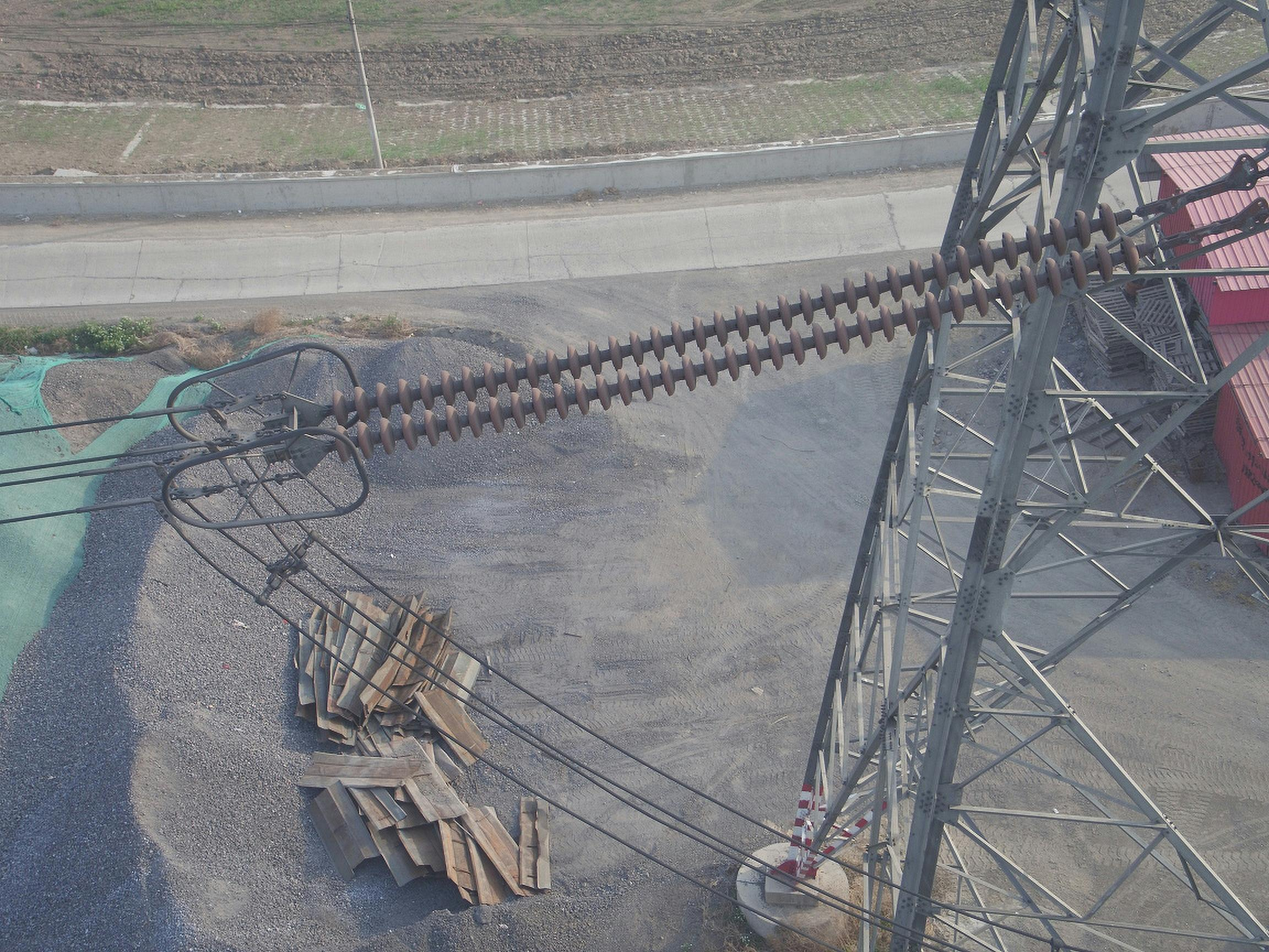insulator: (326, 199, 1142, 470)
